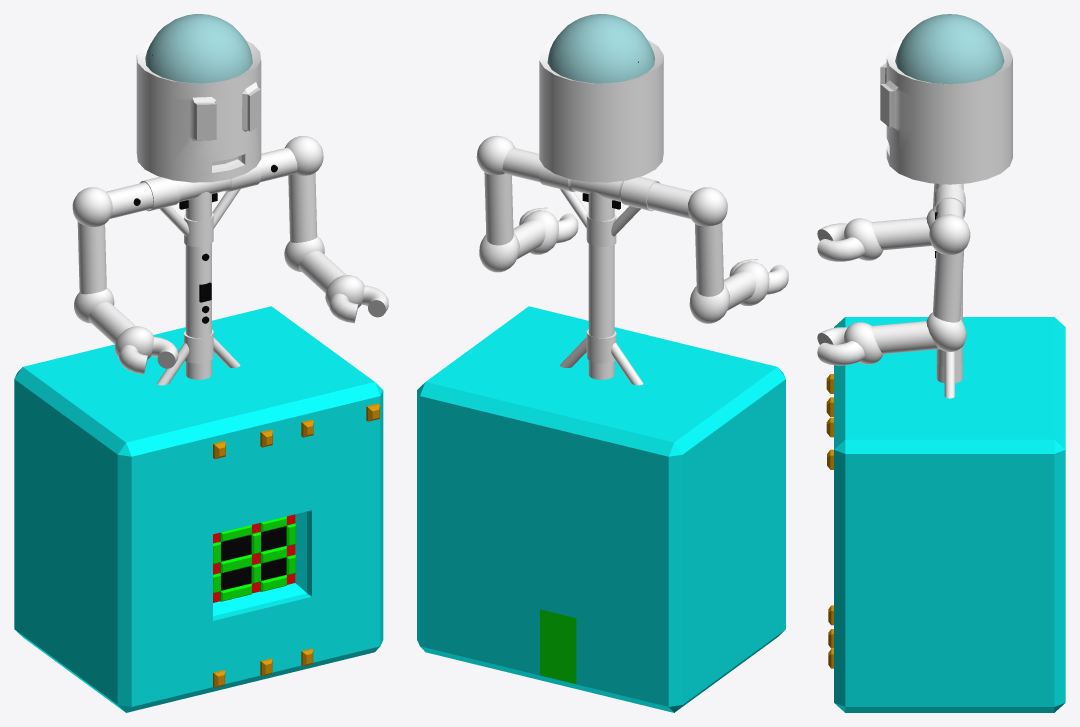
Rendered from machine.fbx.
The picture shows the model from 3 angles, left to right: view 1: azimuth 30°, elevation 25°; view 2: azimuth 150°, elevation 25°; view 3: azimuth 270°, elevation 25°; orthographic projection.
Visible parts, largest first — view 1: robot, tete, boule1, corps_robot, haut, bras1, bras2, epaule1, pince1, pince2, avant_bras1, avant_bras2 (+5 smaller); view 2: robot, tete, boule1, corps_robot, haut, bras1, bras2, epaule1, coude2, coude1, epaule2, avant_bras2 (+5 smaller); view 3: robot, tete, boule1, bras2, avant_bras2, avant_bras1, epaule2, pince1, pince2, coude2, haut, main1 (+3 smaller).
Part boxes in pixels (x1=…): robot: x1=14, y1=306, x2=383, y2=712; tete: x1=136, y1=39, x2=261, y2=182; boule1: x1=145, y1=14, x2=252, y2=83; corps_robot: x1=184, y1=192, x2=213, y2=379; haut: x1=106, y1=147, x2=297, y2=218; bras1: x1=77, y1=221, x2=106, y2=294; bras2: x1=288, y1=172, x2=317, y2=242; epaule1: x1=72, y1=187, x2=112, y2=226; pince1: x1=119, y1=336, x2=178, y2=374; pince2: x1=329, y1=285, x2=388, y2=323; avant_bras1: x1=88, y1=302, x2=136, y2=344; avant_bras2: x1=298, y1=250, x2=346, y2=292; robot: x1=417, y1=306, x2=785, y2=712; tete: x1=539, y1=39, x2=663, y2=182; boule1: x1=547, y1=14, x2=654, y2=83; corps_robot: x1=586, y1=192, x2=616, y2=379; haut: x1=502, y1=147, x2=694, y2=218; bras1: x1=695, y1=222, x2=723, y2=296; bras2: x1=484, y1=172, x2=513, y2=245; epaule1: x1=687, y1=187, x2=727, y2=226; coude2: x1=479, y1=233, x2=519, y2=272; coude1: x1=689, y1=284, x2=729, y2=323; epaule2: x1=476, y1=135, x2=515, y2=174; avant_bras2: x1=513, y1=219, x2=545, y2=259; robot: x1=826, y1=317, x2=1065, y2=712; tete: x1=880, y1=40, x2=1012, y2=184; boule1: x1=895, y1=14, x2=1004, y2=84; bras2: x1=933, y1=250, x2=964, y2=322; avant_bras2: x1=871, y1=321, x2=938, y2=353; avant_bras1: x1=871, y1=217, x2=931, y2=250; epaule2: x1=929, y1=214, x2=970, y2=255; pince1: x1=817, y1=223, x2=864, y2=261; pince2: x1=817, y1=327, x2=864, y2=365; coude2: x1=926, y1=312, x2=966, y2=351; haut: x1=934, y1=183, x2=965, y2=219; main1: x1=844, y1=218, x2=883, y2=260.
Bounding box in the file's own units: 2.46 × 5.55 × 1.97.
